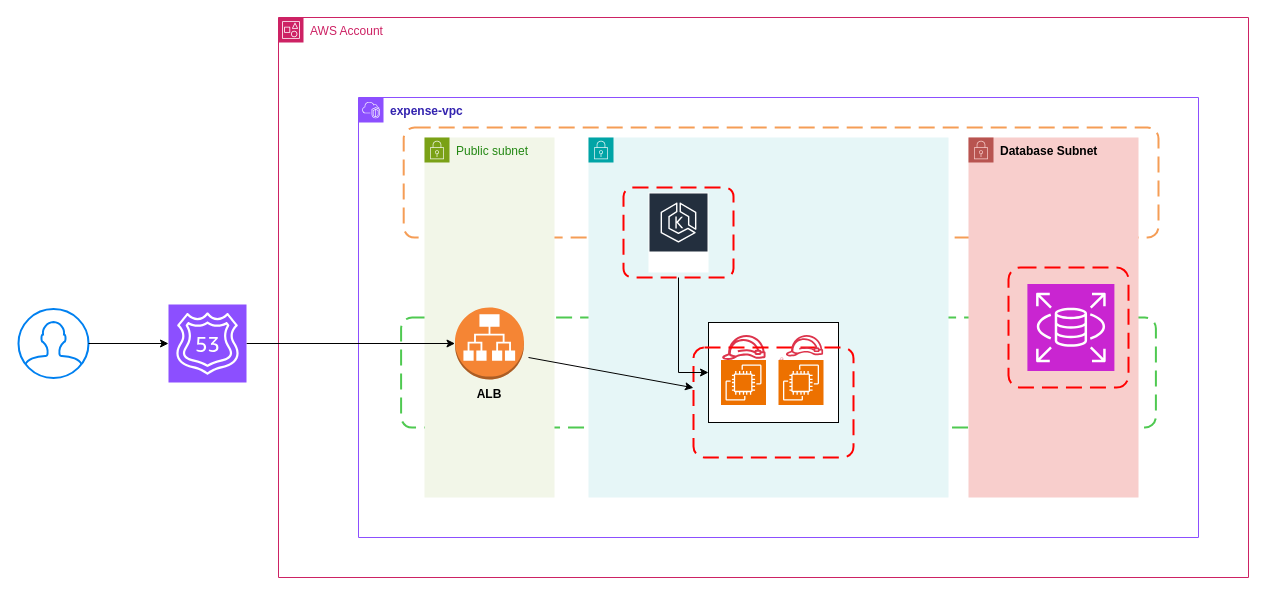
This 1266x595 diagram has some shape labels left out. Here are the shapes that lost their labels. From the top down, the centre of each, then its label:
At (x=678, y=232): "EKS".
At (x=768, y=317): "Private subnet".
